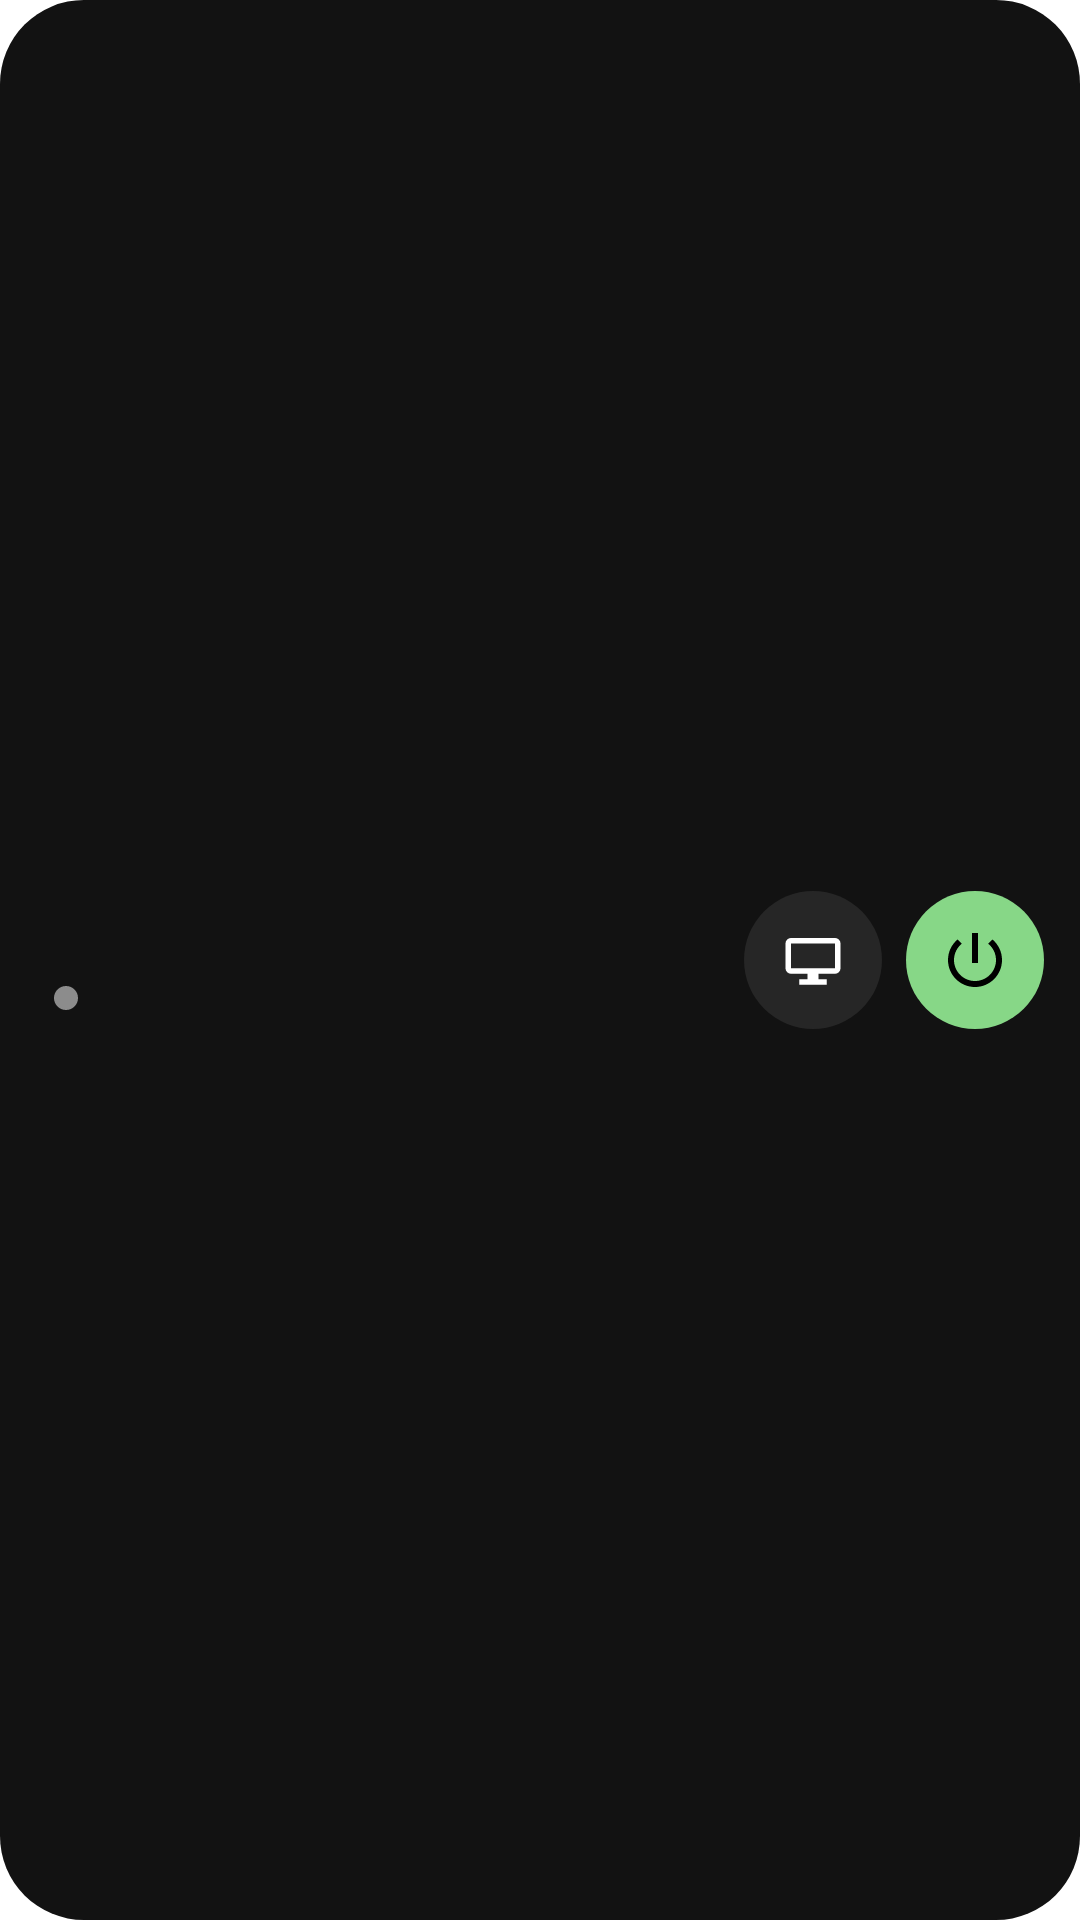

Named icons in this screenshot (1080 x 1920) and their bounding boxes, bbox=(x1, y1, x2, y2):
Andromac connection: bbox=(906, 891, 1044, 1029)
Mac screen: bbox=(744, 891, 882, 1029)
